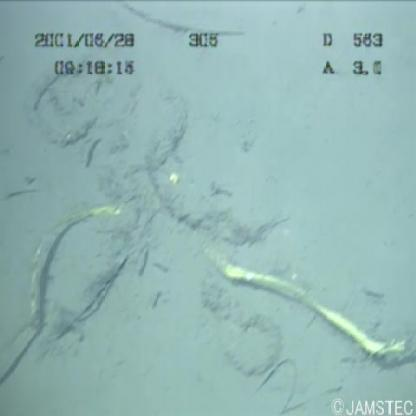Rác: (3, 27, 410, 396)
